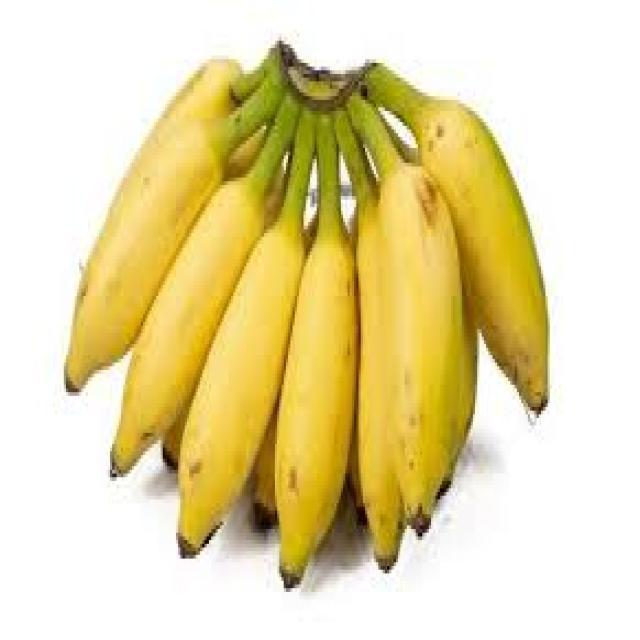banana: (62, 37, 550, 588)
